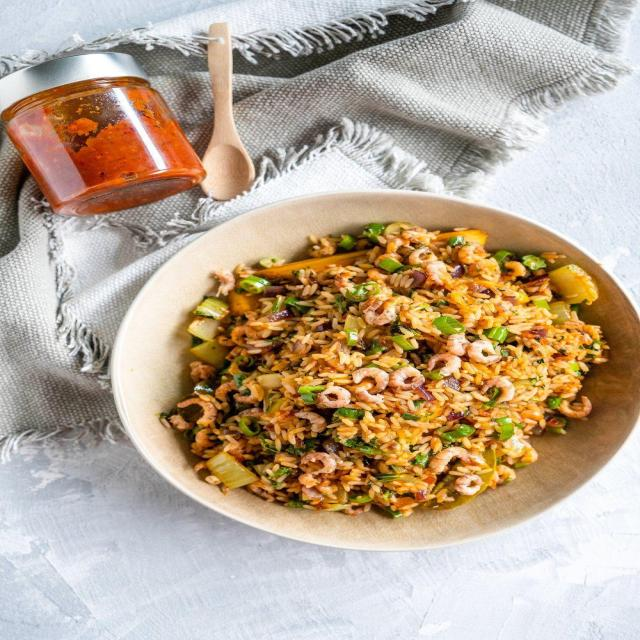Nasi Goreng: (158, 220, 611, 520)
